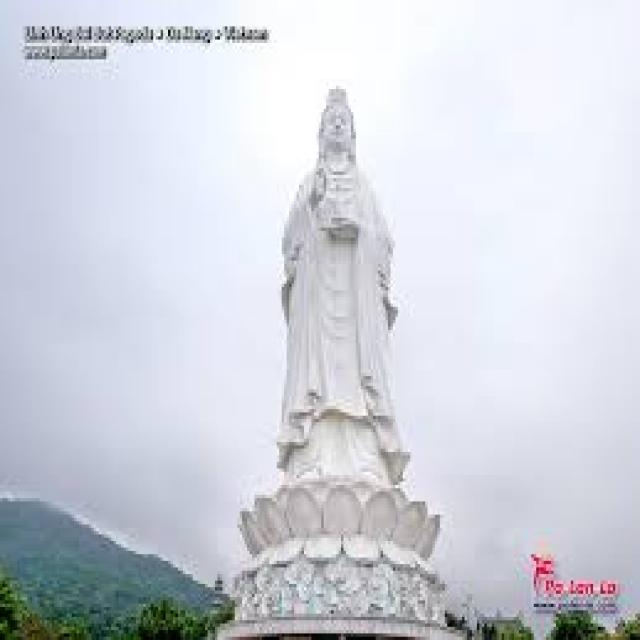Guan Yin: (269, 80, 406, 457)
